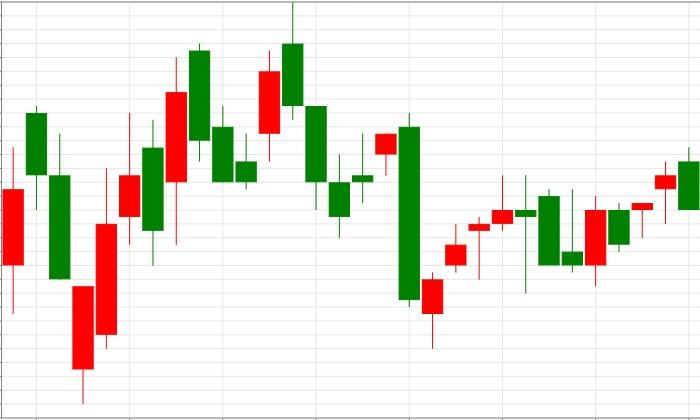bearish_engulfing_fall: (328, 112, 421, 306)
three_black_crows_fall: (211, 2, 351, 238)
three_white_soldiers_rise: (374, 112, 491, 349)
